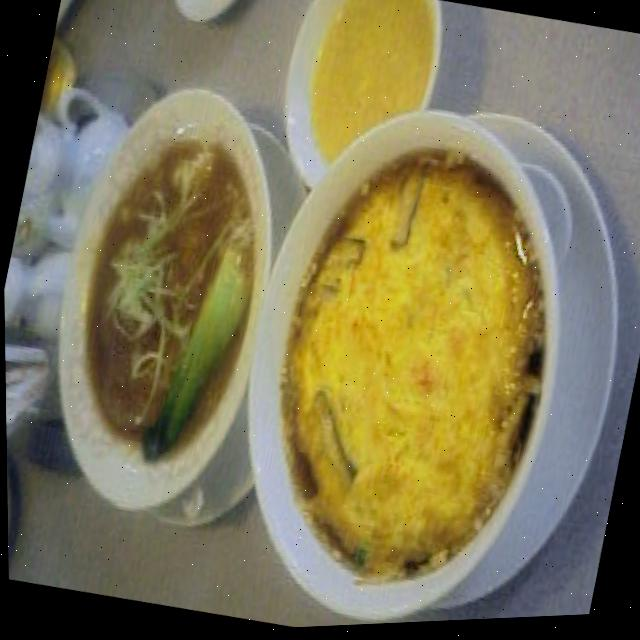面条主食: (286, 0, 640, 622)
